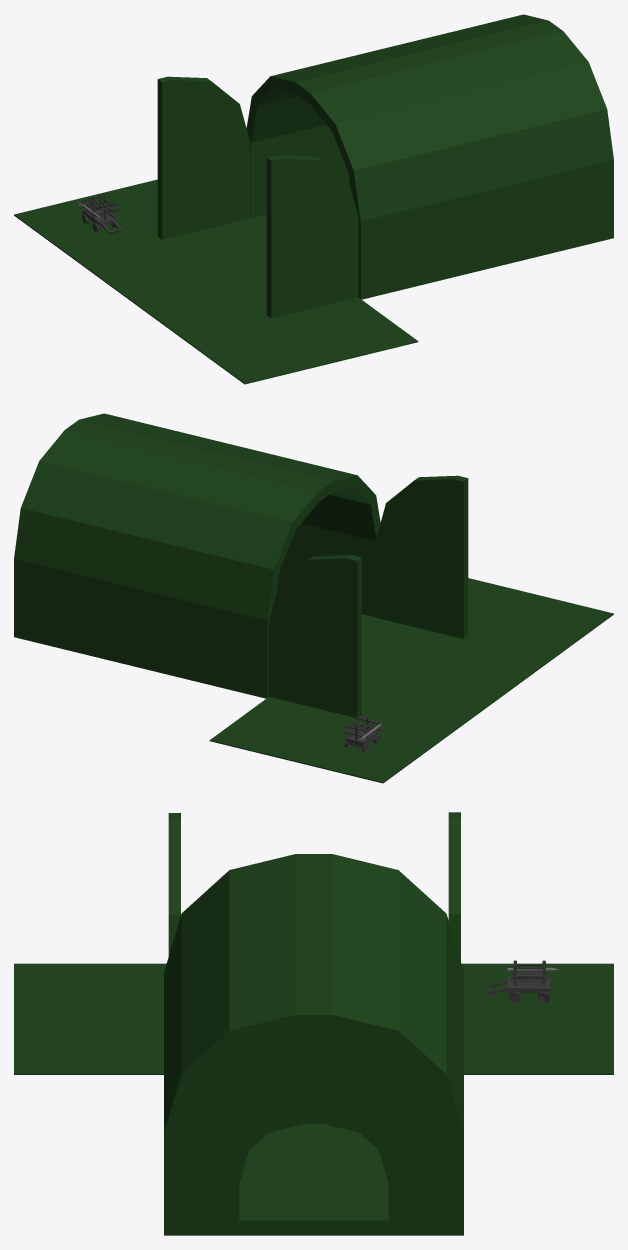
The model's file is anim-ais_pod.glb.
The picture shows the model from 3 angles, top to bottom: view 1: azimuth 30°, elevation 25°; view 2: azimuth 150°, elevation 25°; view 3: azimuth 270°, elevation 25°; orthographic projection. The views are drawn at different scales.
Visible parts, largest first — view 1: Igloo, M-4; view 2: Igloo, M-4; view 3: Igloo, M-4.
Part boxes in pixels (box(x1,y1,x2,y2)): Igloo: box(14, 14, 613, 384); M-4: box(81, 195, 121, 233); Igloo: box(14, 413, 613, 783); M-4: box(344, 716, 385, 752); Igloo: box(14, 812, 613, 1235); M-4: box(487, 960, 550, 1003).
Bounding box in the file's own units: 120 × 45.71 × 112.
